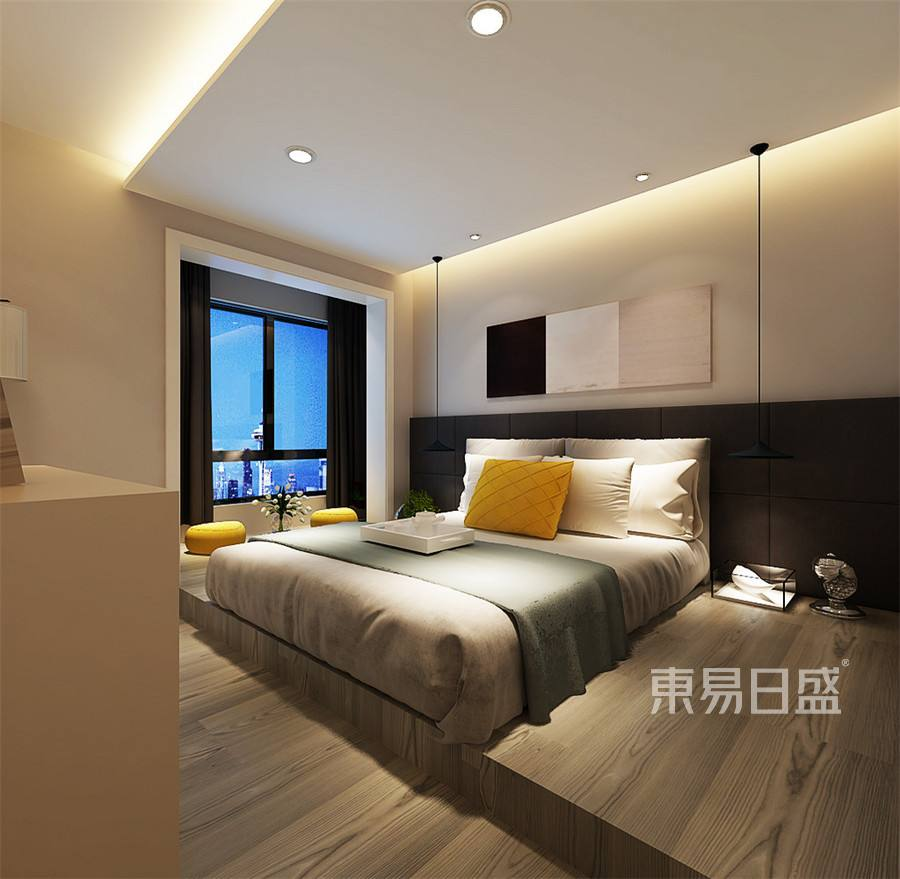床: (192, 501, 699, 743)
枕头: (444, 449, 690, 553)
灯: (465, 6, 509, 41), (285, 144, 319, 170), (626, 167, 659, 189), (460, 235, 488, 249)
